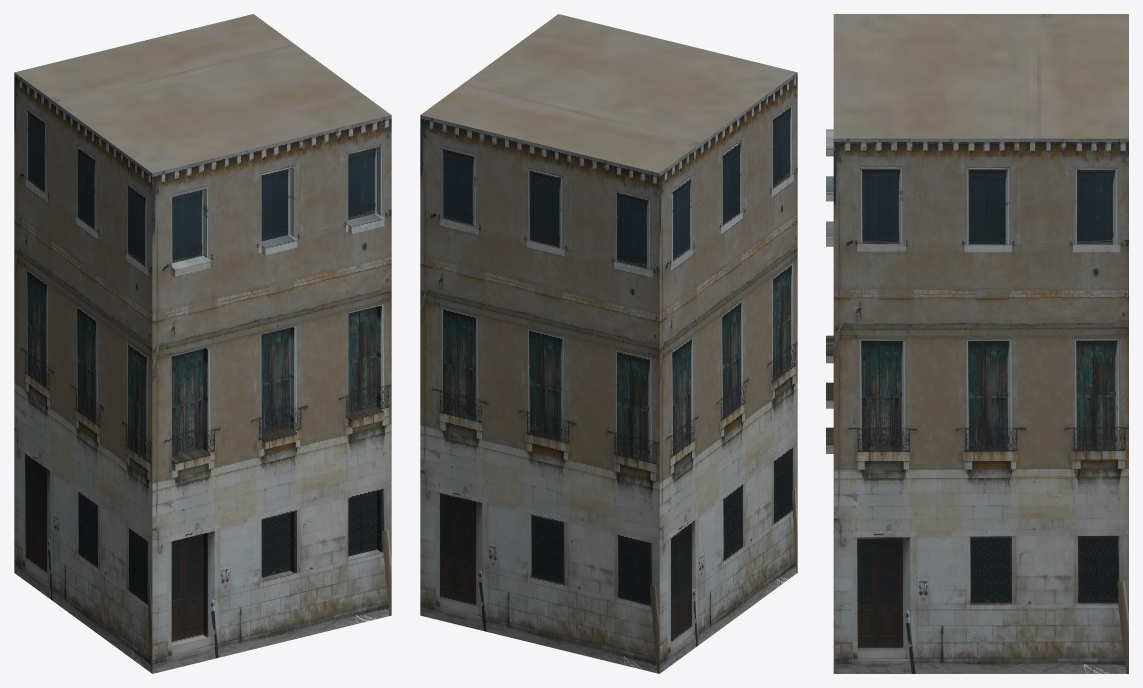
File: Building.glb
3 views of the same model, side by side, from view 1: azimuth 30°, elevation 25°; view 2: azimuth 150°, elevation 25°; view 3: azimuth 270°, elevation 25° (orthographic). The views are drawn at different scales.
Parts seen in each view (by area): view 1: Building; view 2: Building; view 3: Building.
Boxes of the visible parts, x1,y1,x2,y2 form: Building: (14,14,391,673); Building: (420,14,797,673); Building: (826,14,1128,673).
Size of the model in its own units: 5 by 10 by 5.13.
Materials: 1 (1 with a texture image).
